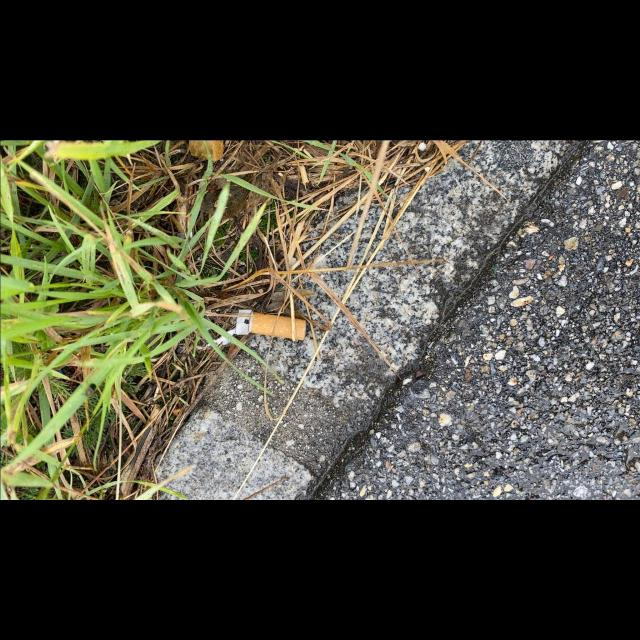cigarette: (235, 308, 306, 341)
